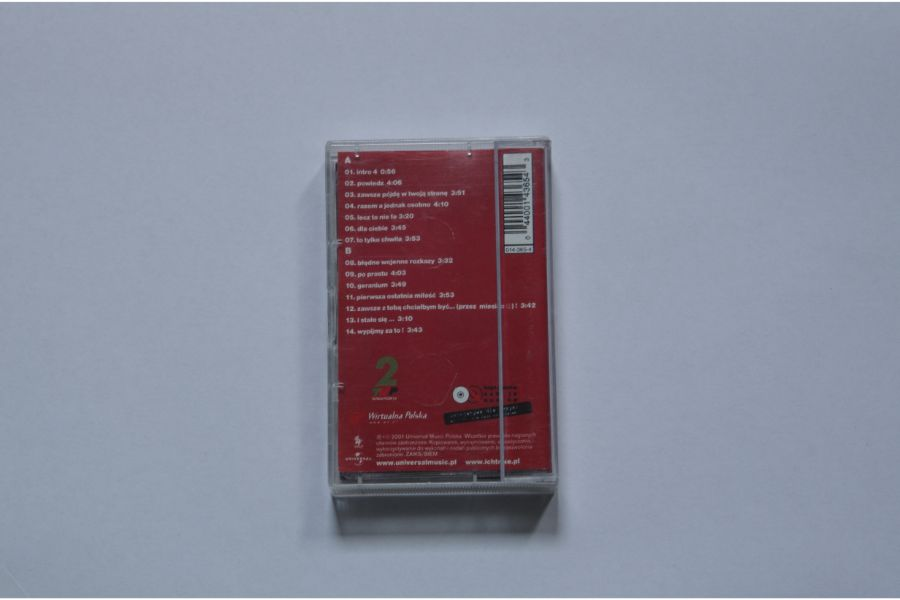album: (323, 134, 563, 498)
